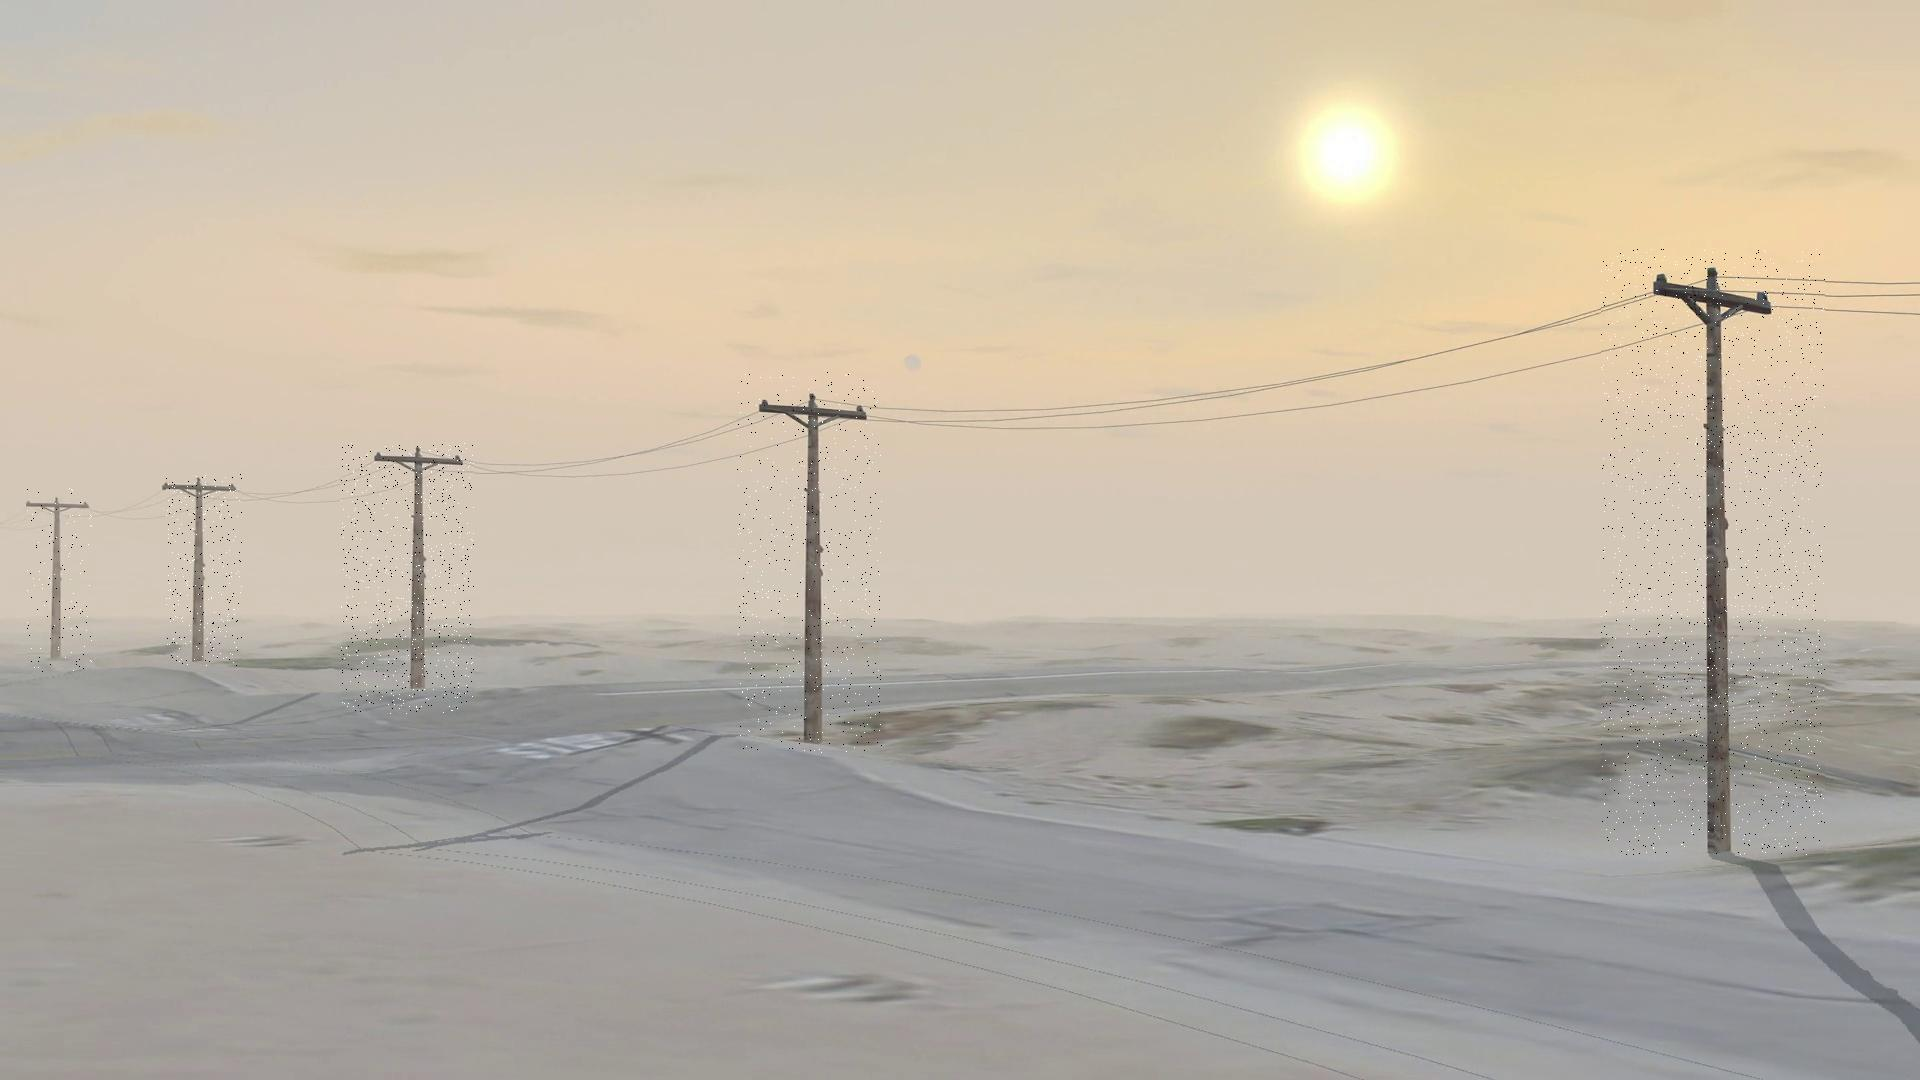cable tower: (1601, 249, 1825, 856), (737, 372, 882, 754), (342, 444, 475, 715), (166, 475, 243, 667), (26, 488, 94, 674)
